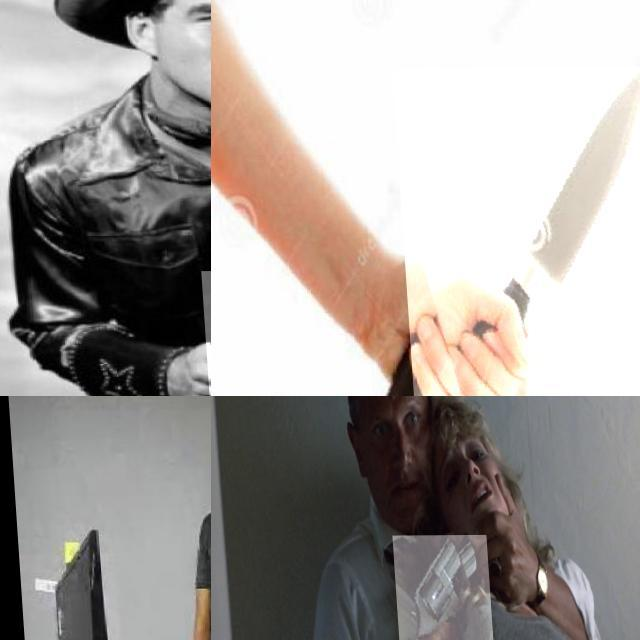-: (389, 66, 640, 396)
gun-knife-thesis - v11 Yolov5 augmented: (388, 535, 492, 640)
